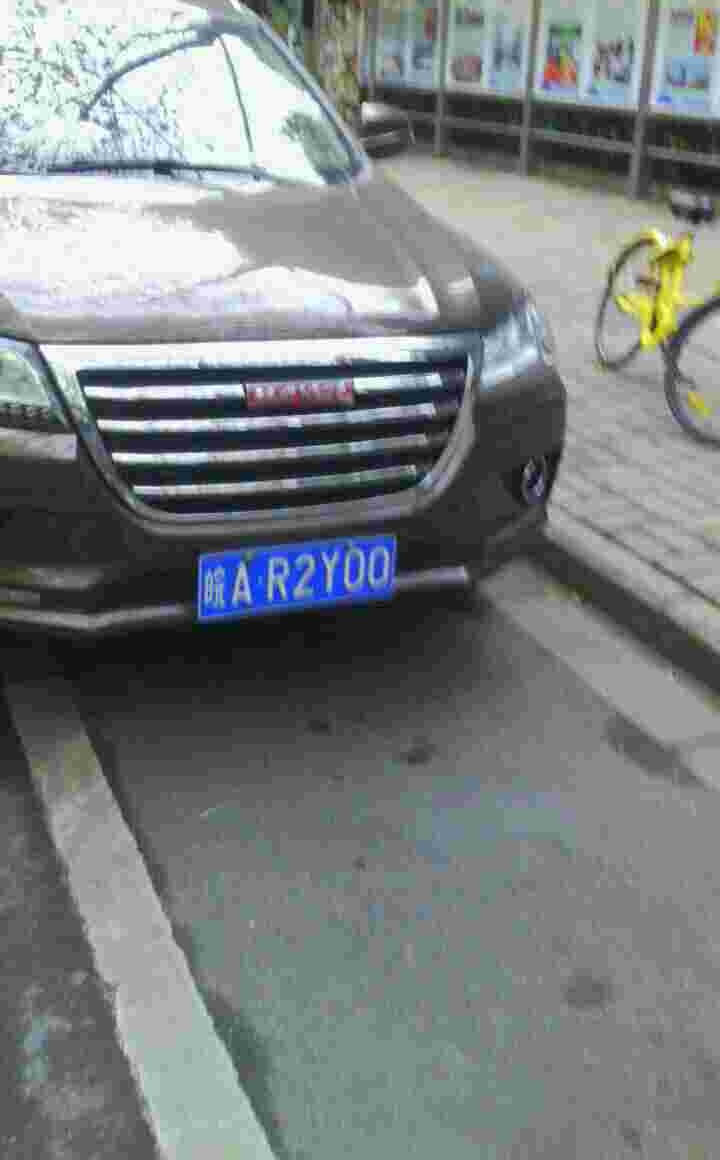plate: (202, 531, 401, 621)
